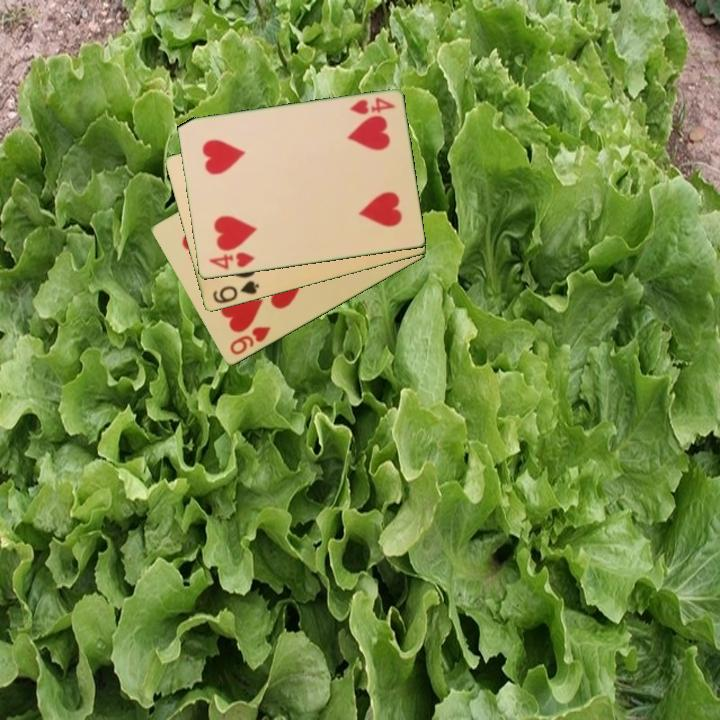4h: (205, 249, 257, 273), (346, 94, 398, 118)
6s: (209, 277, 262, 307)
9h: (226, 323, 274, 358)
